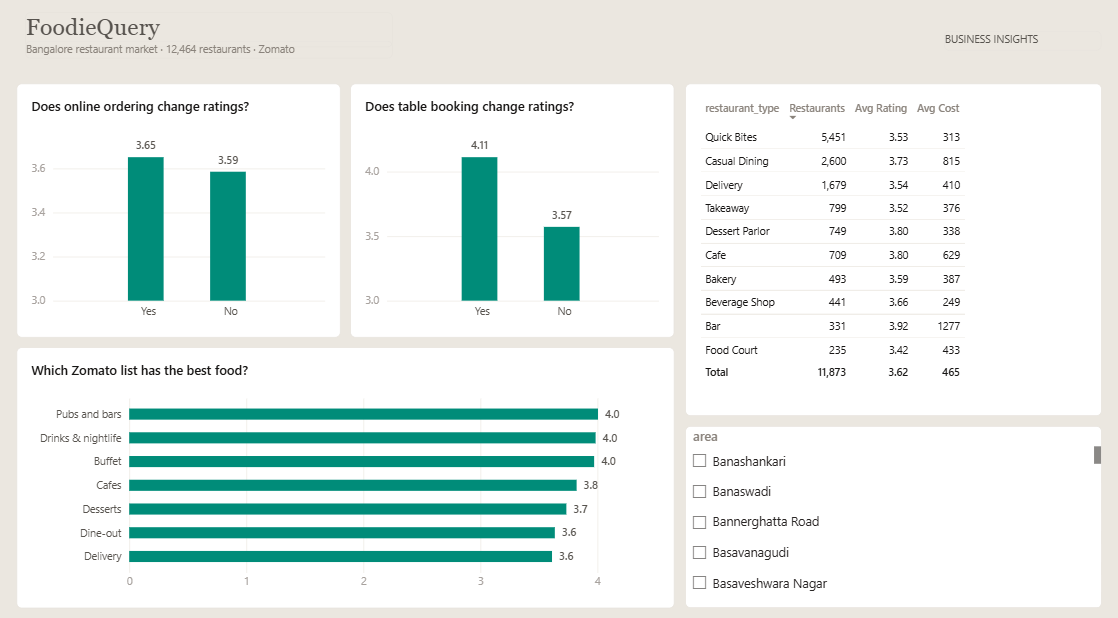

The page's visual inventory and layout, read from the dashboard file:
{"tool":"powerbi","page":{"name":"Business Insights","canvas":[1280,720],"ordinal":4},"visuals":[{"type":"clusteredColumnChart","title":"Does online ordering change ratings?","fields":{"Category":["vw_bi_restaurants.online_order"],"Y":["vw_bi_restaurants.Avg Rating"]},"box":[20,100,370,290],"z":0},{"type":"clusteredColumnChart","title":"Does table booking change ratings?","fields":{"Category":["vw_bi_restaurants.book_table"],"Y":["vw_bi_restaurants.Avg Rating"]},"box":[402,100,370,290],"z":1000},{"type":"tableEx","fields":{"Values":["vw_bi_types.restaurant_type","vw_bi_restaurants.Restaurants","vw_bi_restaurants.Avg Rating","vw_bi_restaurants.Avg Cost"]},"box":[784,100,476,380],"z":2000},{"type":"clusteredBarChart","title":"Which Zomato list has the best food?","fields":{"Category":["vw_bi_listings.browse_category"],"Y":["vw_bi_restaurants.Avg Rating"]},"box":[20,402,752,298],"z":3000},{"type":"slicer","fields":{"Values":["vw_bi_restaurants.area"]},"box":[784,492,476,208],"z":4000},{"type":"textbox","box":[30,18,420,40],"z":5000},{"type":"textbox","box":[30,52,420,20],"z":6000},{"type":"textbox","box":[1080,40,180,22],"z":7000}]}

Visuals, with their boxes in screenshot pixels (x1, y1, x2, y2), scaled from the page's 1280x720 canvas onto the 1118x618 screenshot:
"Does online ordering change ratings?" clusteredColumnChart: bbox(17, 86, 341, 335)
"Does table booking change ratings?" clusteredColumnChart: bbox(351, 86, 674, 335)
tableEx - vw_bi_types.restaurant_type x vw_bi_restaurants.Restaurants: bbox(685, 86, 1101, 412)
"Which Zomato list has the best food?" clusteredBarChart: bbox(17, 345, 674, 601)
slicer - vw_bi_restaurants.area: bbox(685, 422, 1101, 601)
textbox: bbox(26, 15, 393, 50)
textbox: bbox(26, 45, 393, 62)
textbox: bbox(943, 34, 1101, 53)
